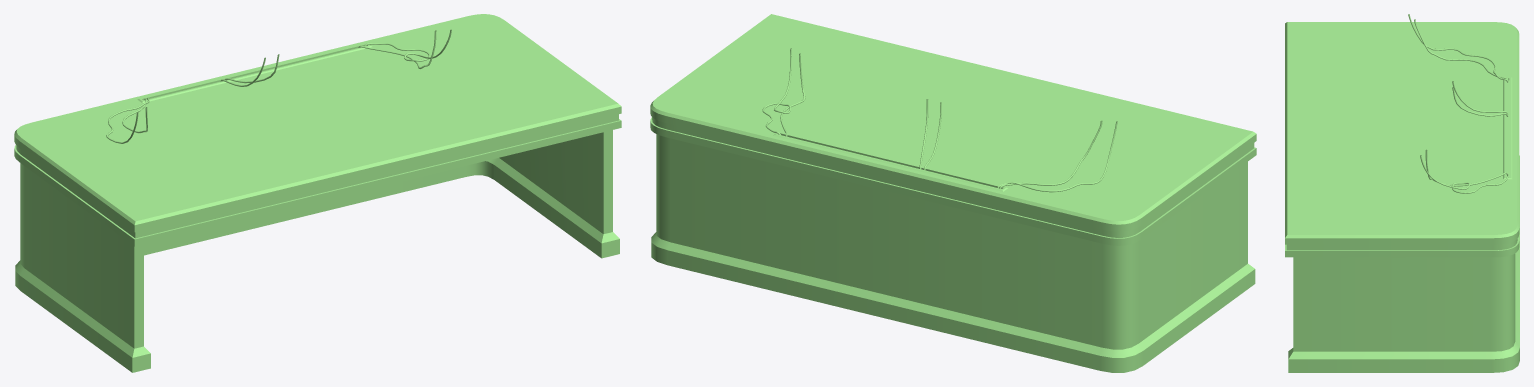
File: table2.fbx
The picture shows the model from 3 angles, left to right: view 1: azimuth 30°, elevation 25°; view 2: azimuth 150°, elevation 25°; view 3: azimuth 270°, elevation 25°; orthographic projection. The views are drawn at different scales.
Parts seen in each view (by area): view 1: table2; view 2: table2; view 3: table2.
Part boxes in pixels (<box>): table2: <box>14,14,621,372</box>; table2: <box>650,14,1256,372</box>; table2: <box>1285,14,1519,372</box>.
Size of the model in its own units: 132 by 50.23 by 60.95.
